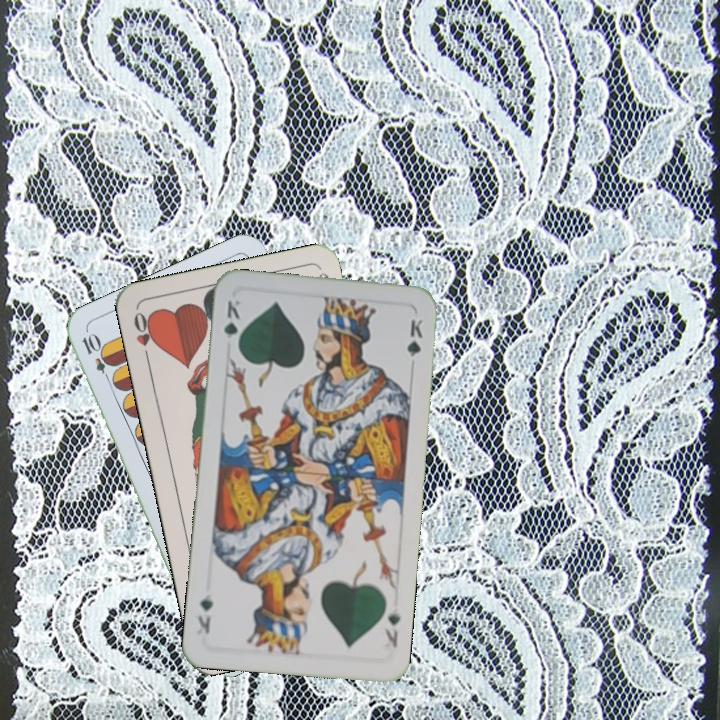E10: (78, 329, 116, 386)
GK: (219, 296, 244, 353), (381, 608, 403, 650)
HO: (129, 308, 158, 365)
